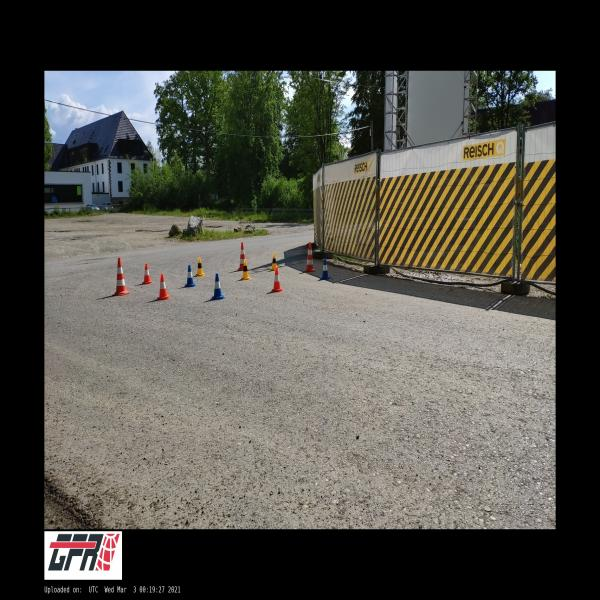blue_cone: (211, 274, 226, 300), (185, 265, 196, 287), (320, 258, 330, 279)
large_orange_cone: (114, 257, 130, 296), (305, 242, 316, 272), (238, 242, 248, 271)
orange_cone: (157, 273, 170, 301), (271, 268, 283, 292), (142, 263, 153, 284)
yellow_cone: (240, 258, 251, 280), (195, 258, 206, 276), (271, 254, 277, 270)
